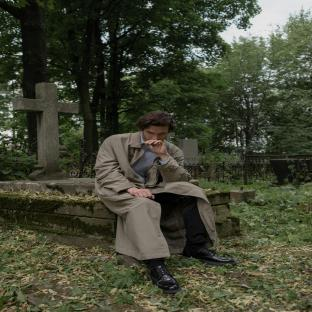Human: (95, 111, 236, 294)
